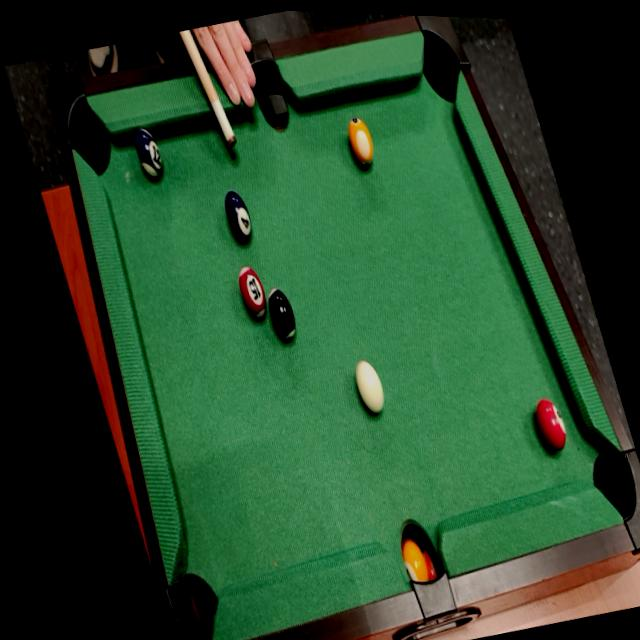cue ball: (348, 352, 393, 421)
other: (124, 115, 174, 190), (528, 391, 574, 461), (258, 284, 306, 349), (229, 258, 272, 322), (217, 183, 260, 246), (342, 113, 381, 170)
